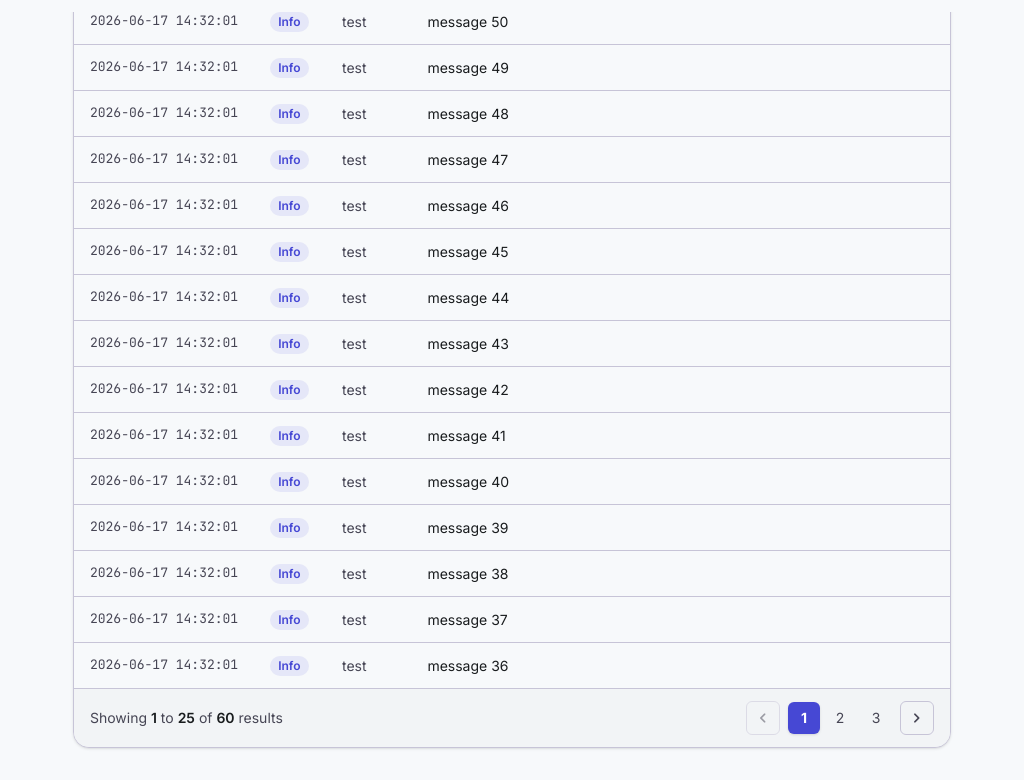
it: LogsRoute › advances to the next page when Next is clicked
(page scrolled)
Click the button named "Next page".
click(917, 718)  # box [900,701,934,735]
(page scrolled)
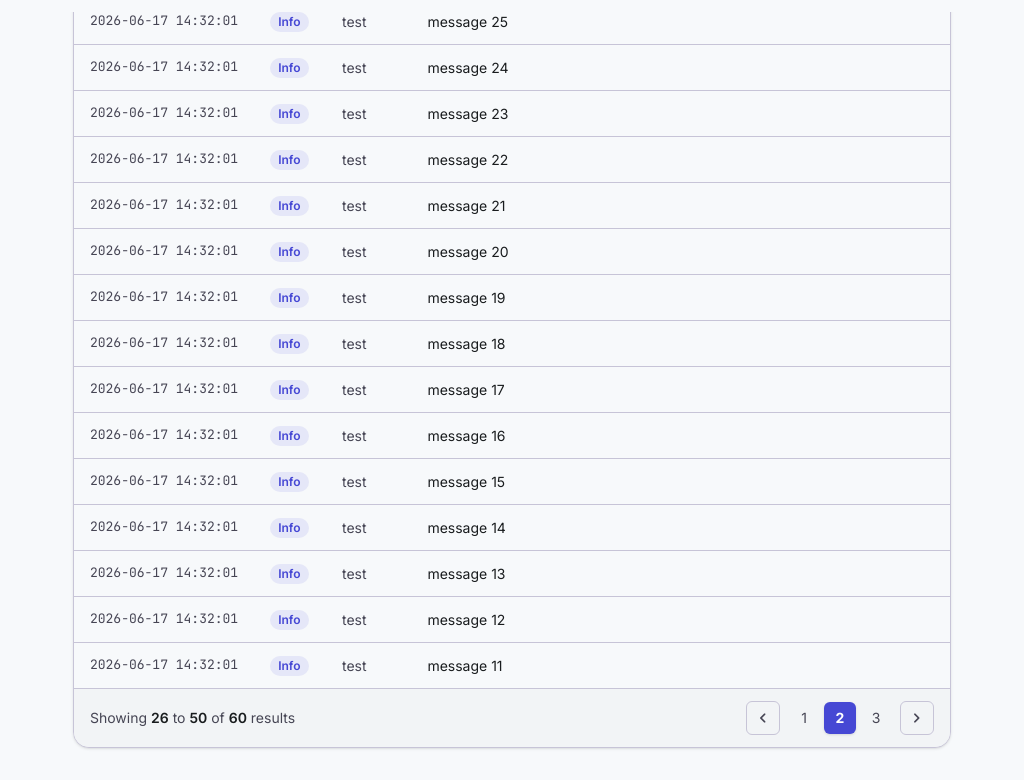
Check: the text "Showing 26 to 50 of 60 results" is shown, box [90,708,295,728]
